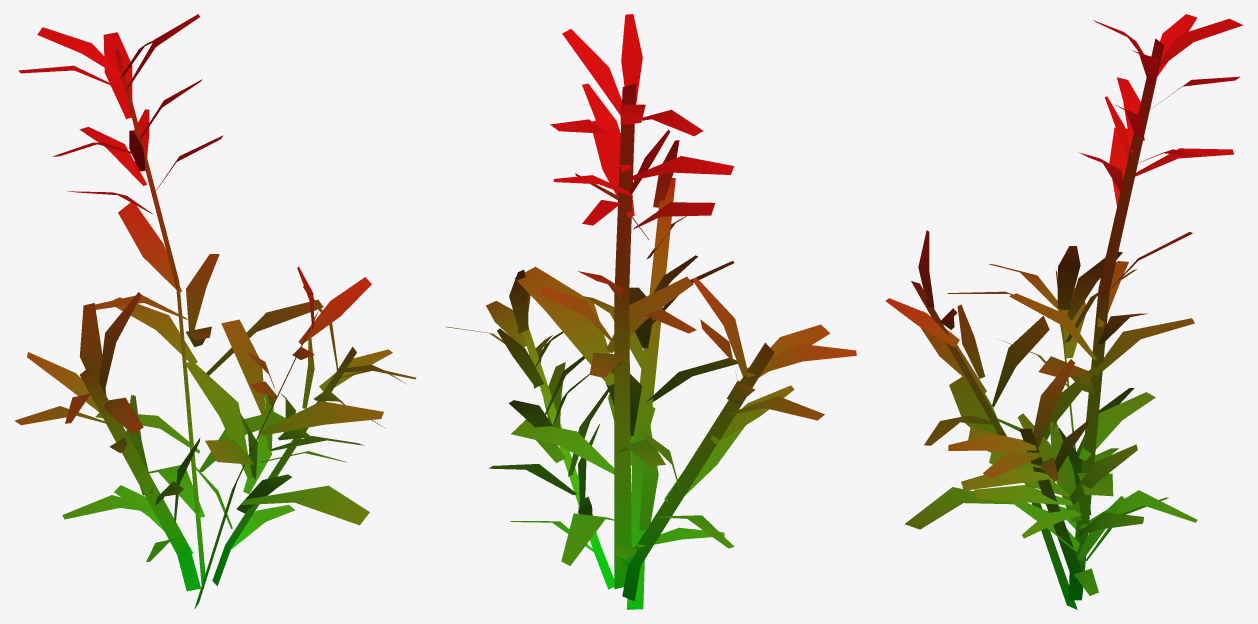
File: Goldenrods_LOD6_Var5.fbx
The picture shows the model from 3 angles, left to right: view 1: azimuth 30°, elevation 25°; view 2: azimuth 150°, elevation 25°; view 3: azimuth 270°, elevation 25°; orthographic projection. The views are drawn at different scales.
Parts seen in each view (by area): view 1: _cx7a_Var5_LOD6; view 2: _cx7a_Var5_LOD6; view 3: _cx7a_Var5_LOD6.
Boxes of the visible parts, box(x1,y1,x2,y2) form: _cx7a_Var5_LOD6: box(14, 14, 416, 608); _cx7a_Var5_LOD6: box(446, 14, 856, 609); _cx7a_Var5_LOD6: box(885, 14, 1242, 609).
Bounding box in the file's own units: 64.77 × 96.81 × 53.81.
